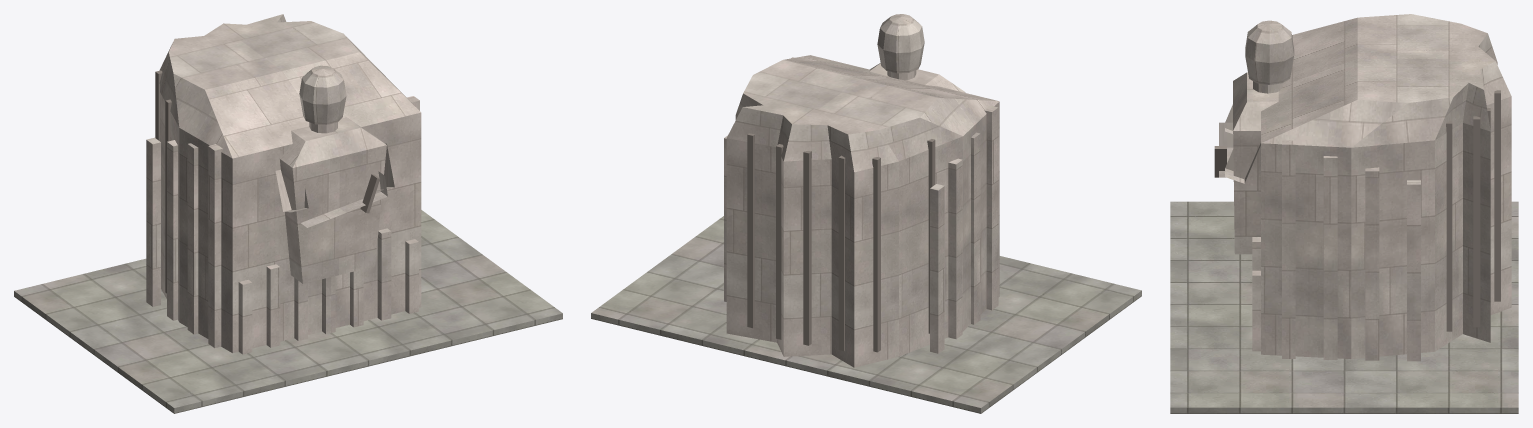
The model's file is mlk_memorial.glb.
3 renders of one model, left to right at view 1: azimuth 30°, elevation 25°; view 2: azimuth 150°, elevation 25°; view 3: azimuth 270°, elevation 25°, orthographic. The views are drawn at different scales.
Visible parts, largest first — view 1: mlk_memorial; view 2: mlk_memorial; view 3: mlk_memorial.
Part boxes in pixels (left/top/right/bottom): mlk_memorial: left=14, top=14, right=562, bottom=413; mlk_memorial: left=591, top=14, right=1141, bottom=413; mlk_memorial: left=1170, top=14, right=1518, bottom=413.
Size of the model in its own units: 14 by 9.1 by 10.
Materials: 3 (3 with a texture image).
